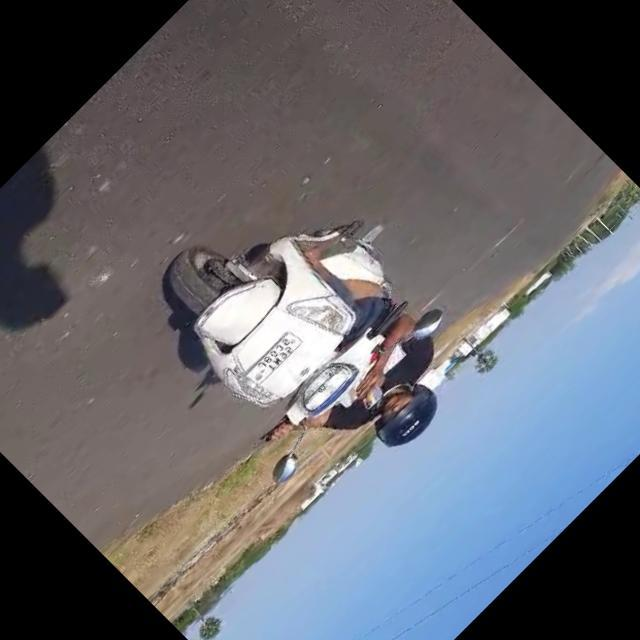USING_MOBILE: (338, 324, 470, 456)
